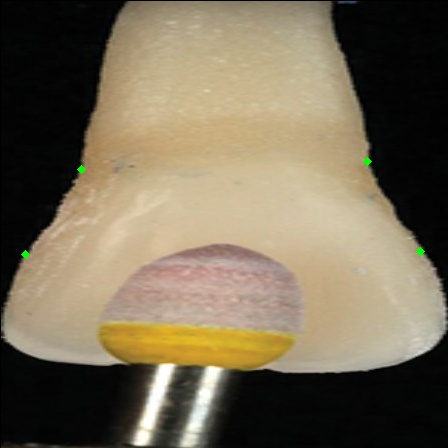coin_1: (367, 161, 387, 181)
coin_2: (420, 251, 440, 272)
coin_3: (81, 169, 101, 189)
coin_4: (25, 254, 45, 274)
